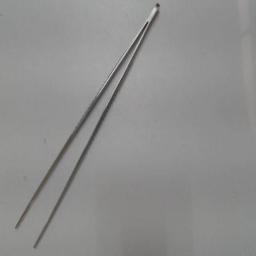DeBakey Dissector: (14, 0, 164, 250)
